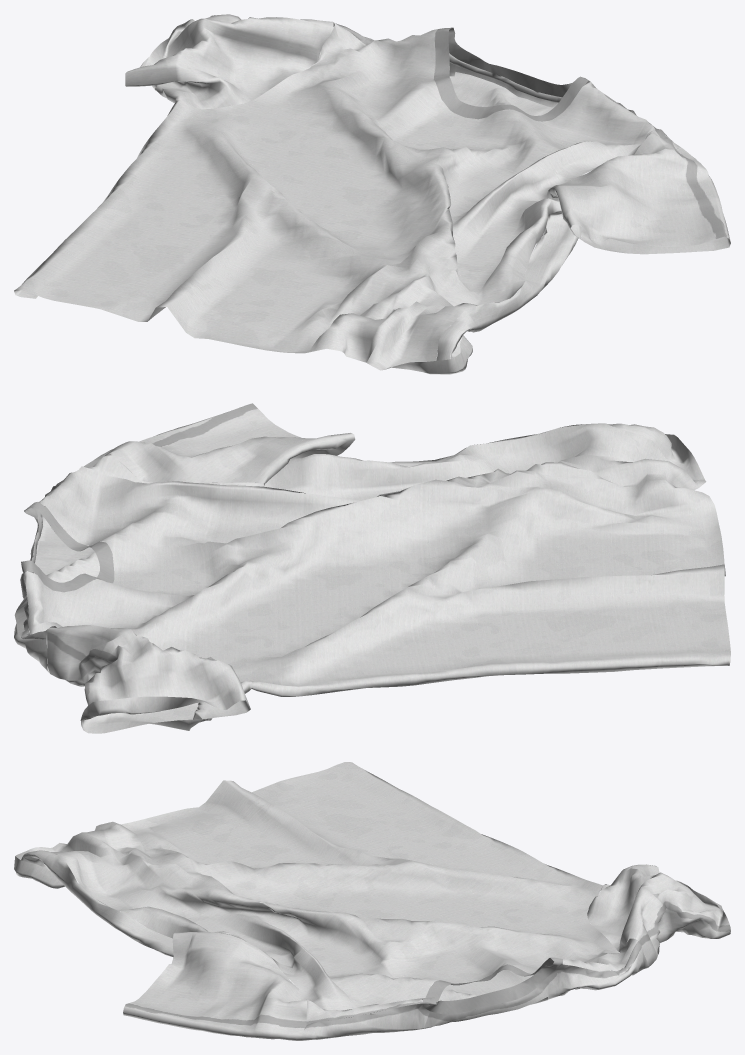
The model's file is SM_Floor_Shirt.fbx.
3 renders of one model, top to bottom at view 1: azimuth 30°, elevation 25°; view 2: azimuth 150°, elevation 25°; view 3: azimuth 270°, elevation 25°, orthographic. The views are drawn at different scales.
Parts seen in each view (by area): view 1: SM_Floor_Shirt_LOD0; view 2: SM_Floor_Shirt_LOD0; view 3: SM_Floor_Shirt_LOD0.
Boxes of the visible parts, x1,y1,x2,y2 form: SM_Floor_Shirt_LOD0: (14,14,730,374); SM_Floor_Shirt_LOD0: (14,403,730,733); SM_Floor_Shirt_LOD0: (14,762,730,1040).
Size of the model in its own units: 90.43 by 99.47 by 7.98.
